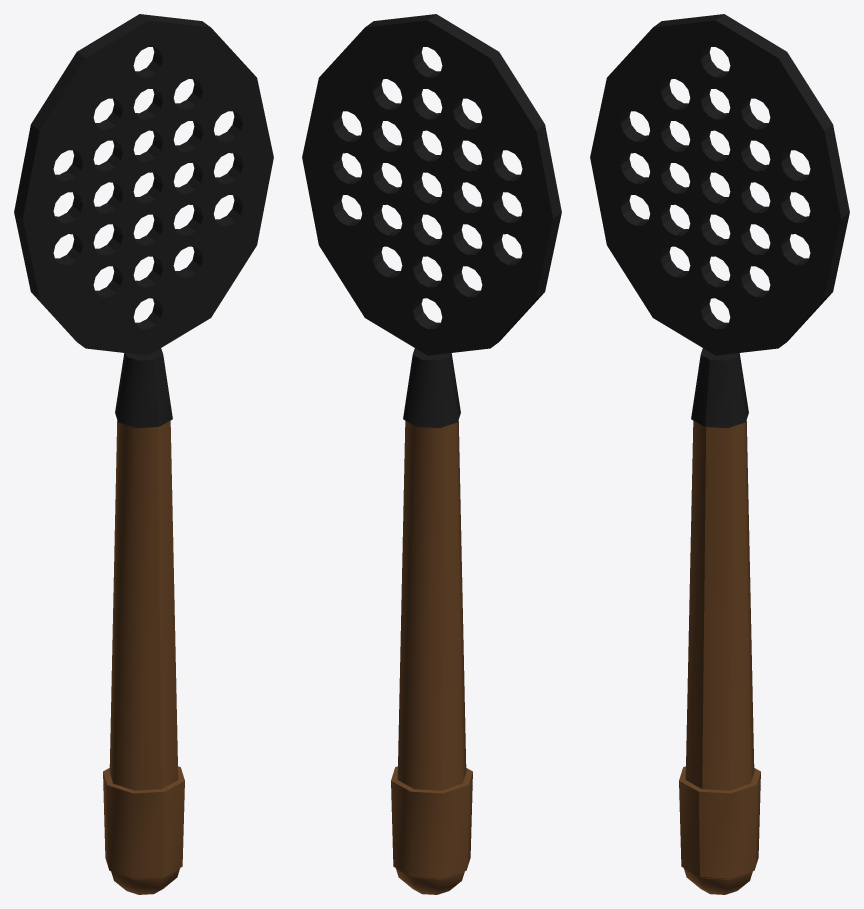
File: prop-swatter.glb
3 renders of one model, left to right at view 1: azimuth 30°, elevation 25°; view 2: azimuth 150°, elevation 25°; view 3: azimuth 330°, elevation 25°, orthographic.
Parts seen in each view (by area): view 1: propVisual; view 2: propVisual; view 3: propVisual.
Boxes of the visible parts, x1,y1,x2,y2 form: propVisual: (14, 14, 273, 894); propVisual: (302, 14, 561, 894); propVisual: (590, 14, 849, 894).
Size of the model in its own units: 0.116 by 0.386 by 0.034.
